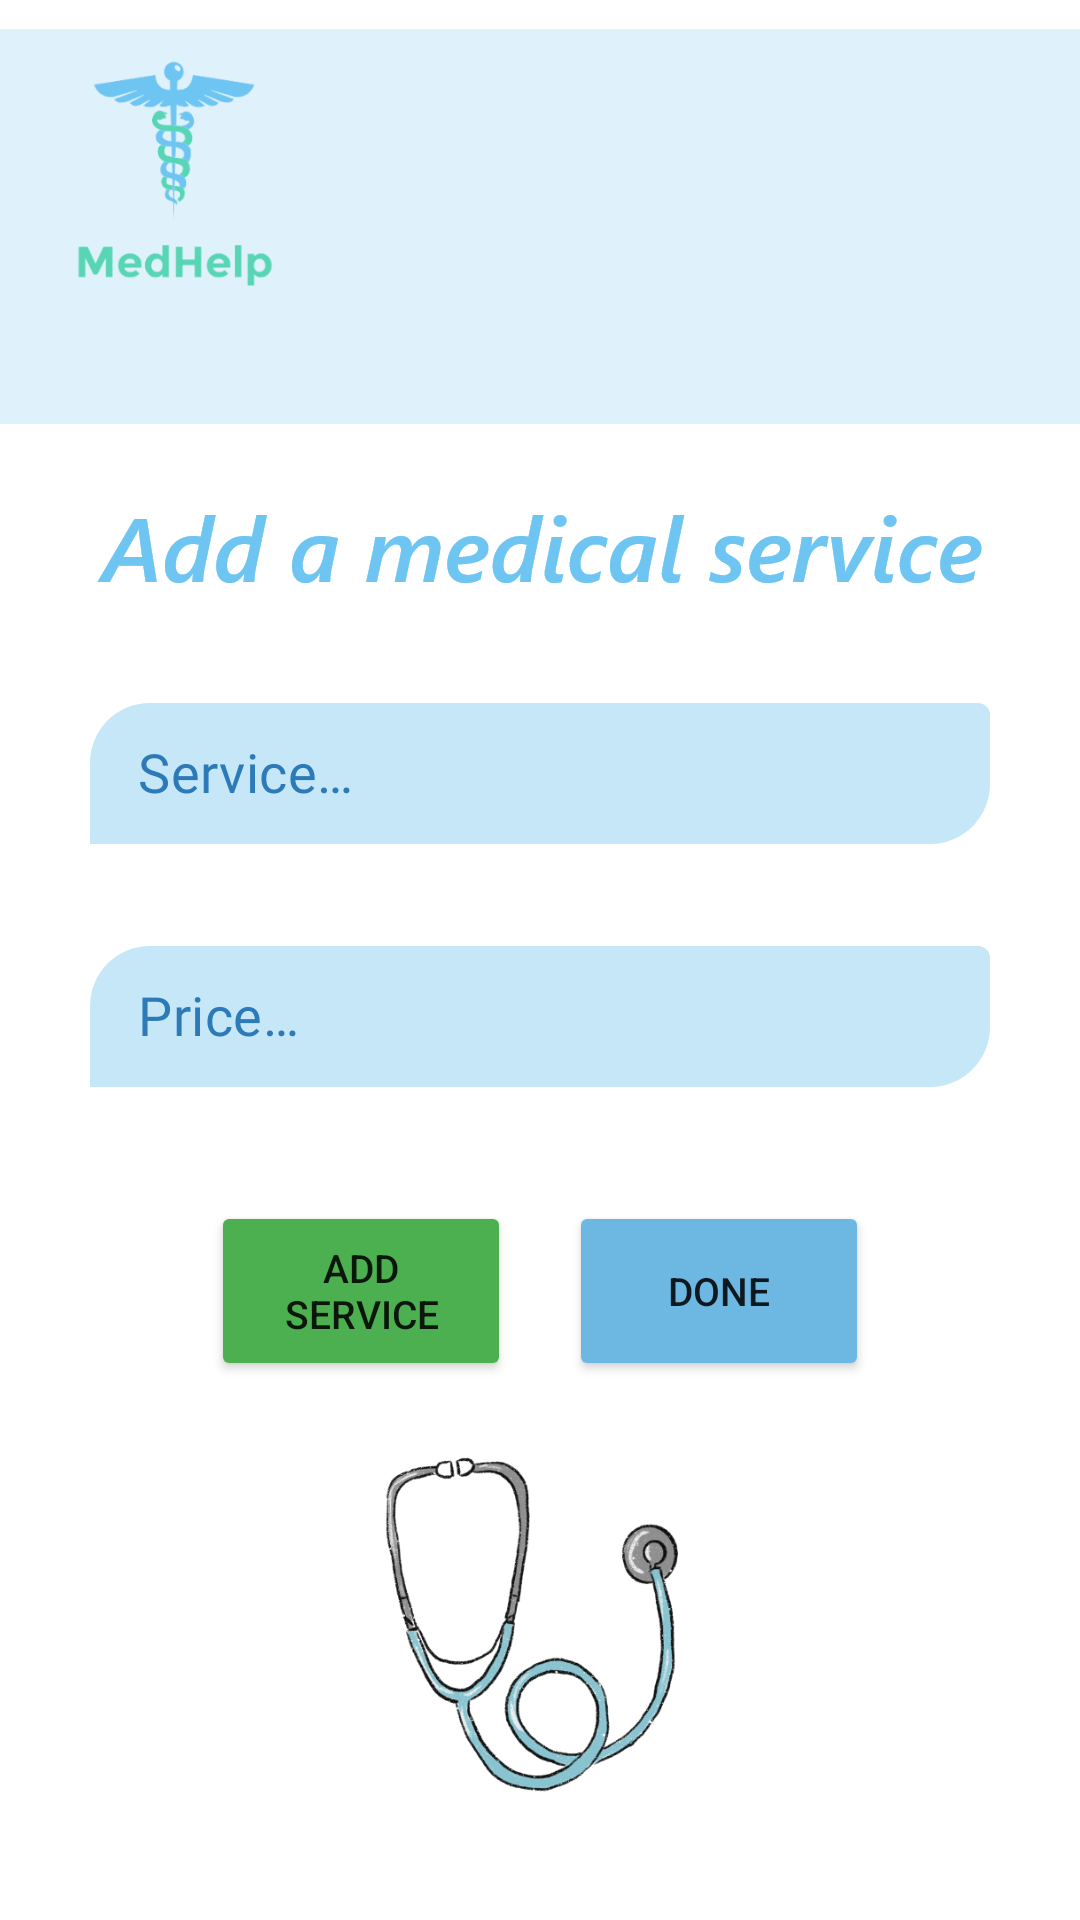

Locate icon controls on the screen. Image size 1080*1920, boxes as (x1, y1, x2, y2).
stethoscope: (386, 1457, 678, 1792)
